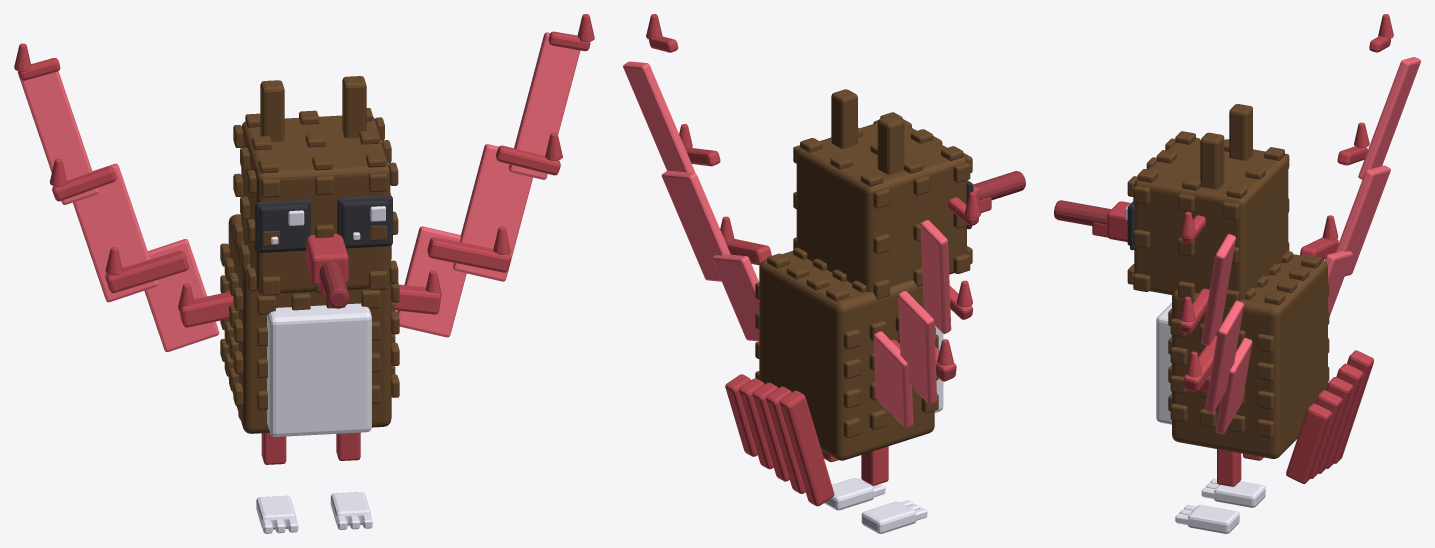
The model's file is LaserOwl.obj.
3 views of the same model, side by side, from view 1: azimuth 30°, elevation 25°; view 2: azimuth 150°, elevation 25°; view 3: azimuth 270°, elevation 25° (orthographic). The views are drawn at different scales.
Visible parts, largest first — view 1: LaserOwl; view 2: LaserOwl; view 3: LaserOwl.
Part boxes in pixels (left/top/right/bottom): LaserOwl: left=14, top=14, right=594, bottom=533; LaserOwl: left=623, top=14, right=1025, bottom=533; LaserOwl: left=1054, top=14, right=1420, bottom=533.
Bounding box in the file's own units: 2.62 × 2.42 × 1.96.
